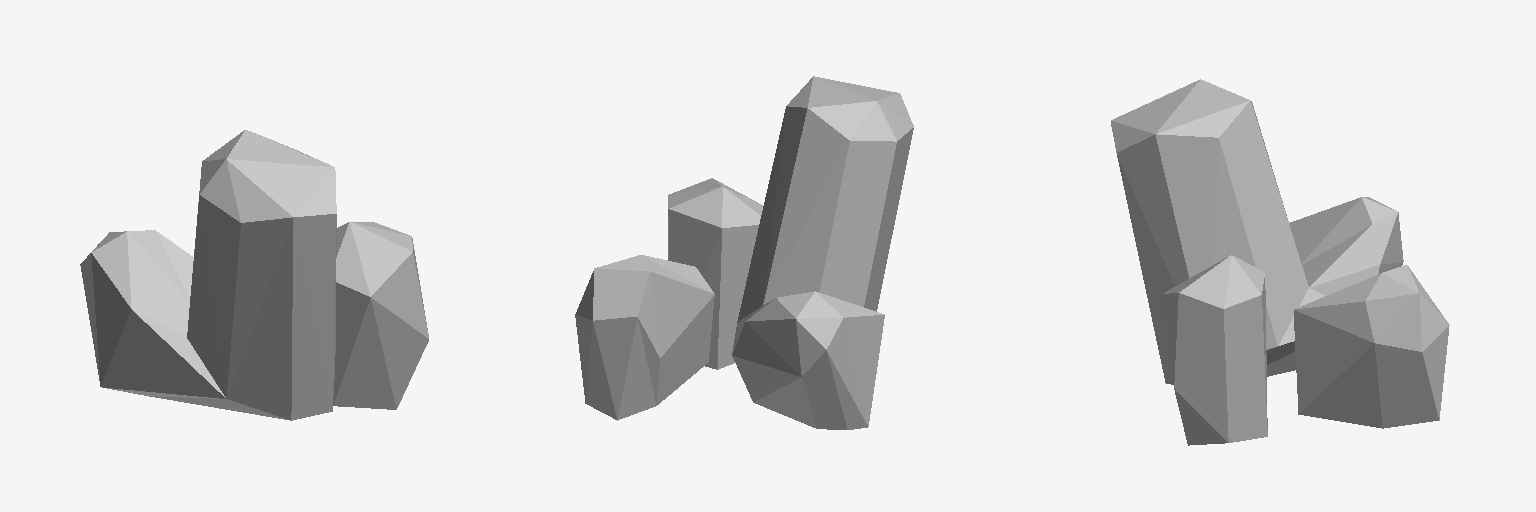
File: Rock_1.obj
3 views of the same model, side by side, from view 1: azimuth 30°, elevation 25°; view 2: azimuth 150°, elevation 25°; view 3: azimuth 270°, elevation 25° (orthographic).
Parts seen in each view (by area): view 1: Cube.021; view 2: Cube.021; view 3: Cube.021.
Part boxes in pixels (x1,y1,x2,y2): Cube.021: (80,130,428,420); Cube.021: (575,76,913,429); Cube.021: (1111,79,1449,445).
Bounding box in the file's own units: 0.9785 × 1.05 × 1.12.